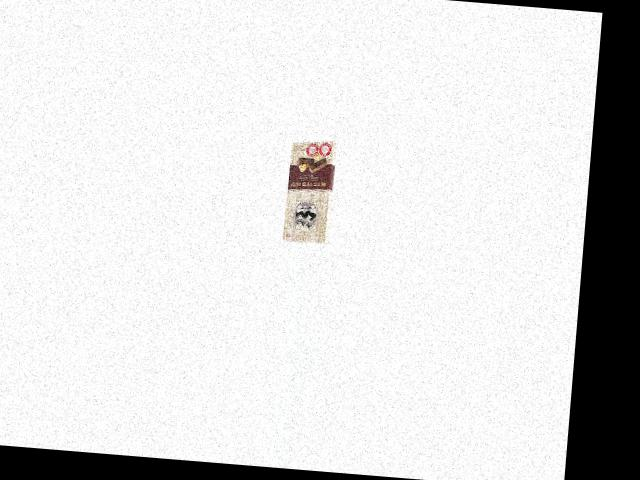chocolate: (280, 135, 345, 245)
